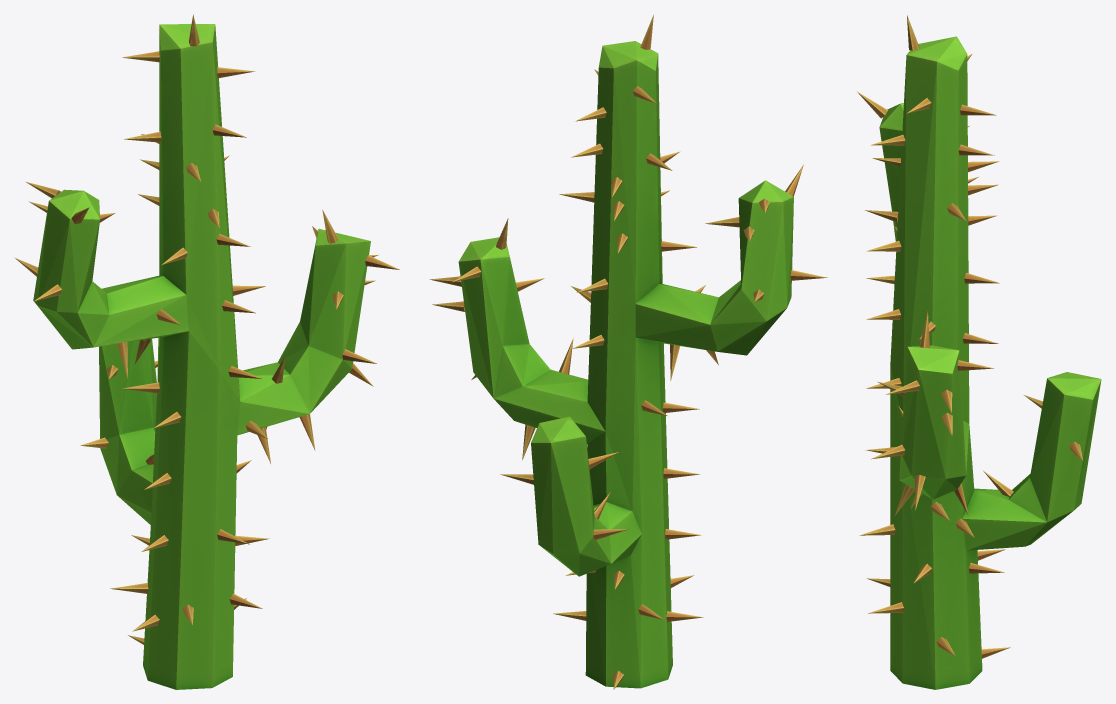
The model's file is Cactus_8.fbx.
The picture shows the model from 3 angles, left to right: view 1: azimuth 30°, elevation 25°; view 2: azimuth 150°, elevation 25°; view 3: azimuth 270°, elevation 25°; orthographic projection. The views are drawn at different scales.
Visible parts, largest first — view 1: Cactus_8; view 2: Cactus_8; view 3: Cactus_8.
Boxes of the visible parts, x1,y1,x2,y2 form: Cactus_8: (14, 14, 399, 689); Cactus_8: (429, 14, 827, 689); Cactus_8: (857, 15, 1101, 689).
Bounding box in the file's own units: 68.48 × 116 × 39.37.
